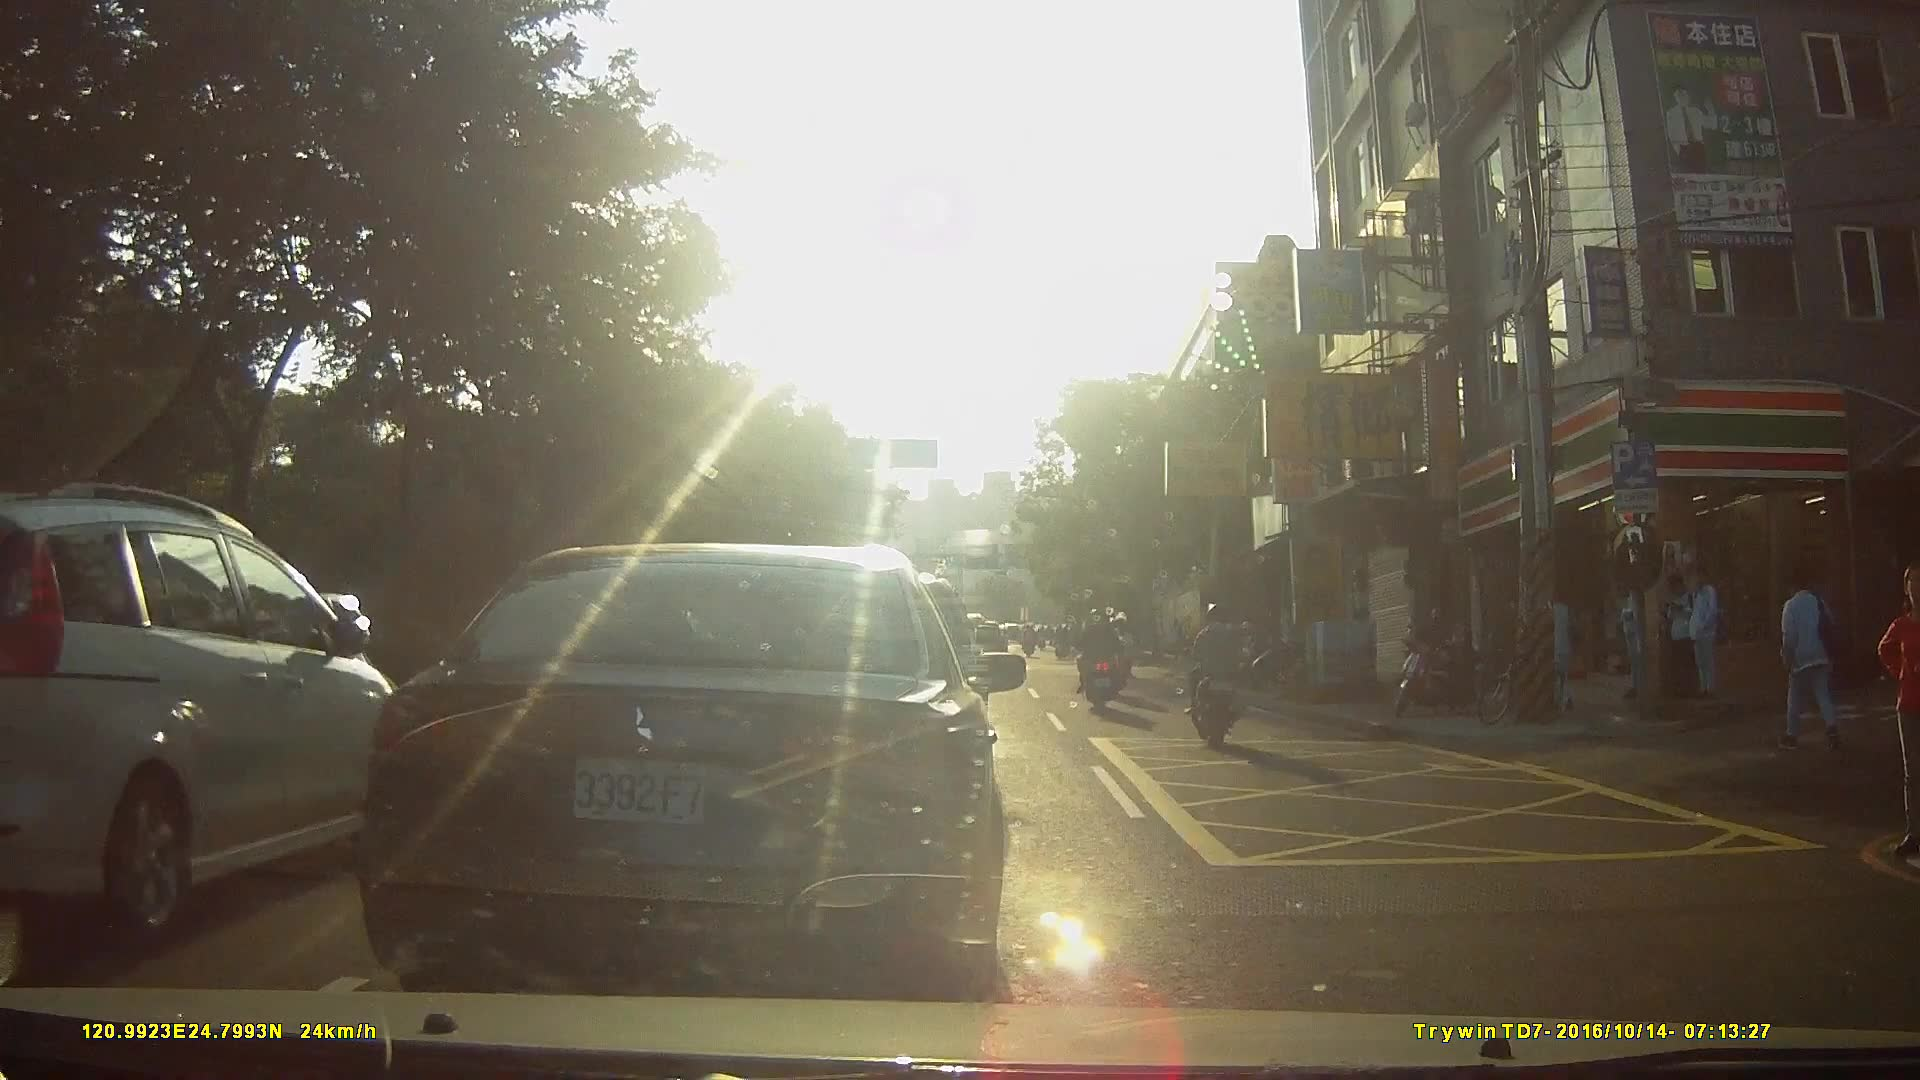pedestrian: (1772, 567, 1844, 758), (1876, 567, 1920, 854), (1527, 579, 1575, 715), (1678, 569, 1721, 700), (1614, 573, 1655, 708), (1662, 567, 1700, 711)
rider: (1187, 600, 1254, 754), (1076, 610, 1126, 714), (1052, 623, 1073, 663), (1020, 625, 1040, 662)
vehicle: (350, 544, 1036, 983), (1, 470, 447, 935)
